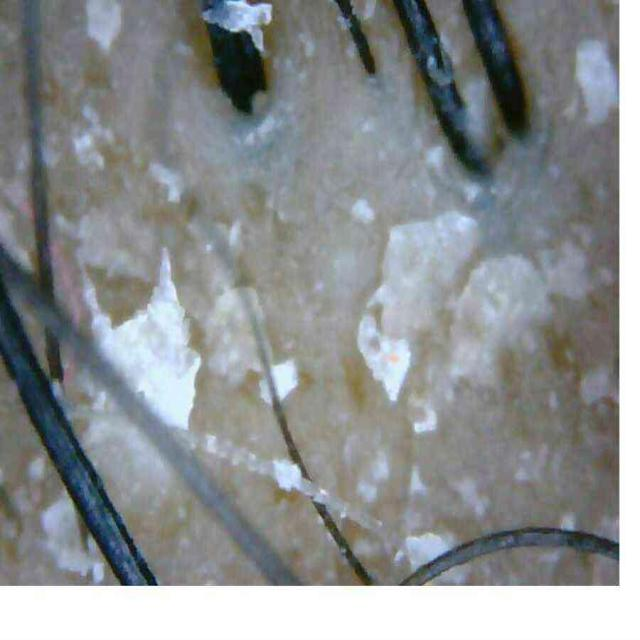d: (358, 211, 478, 402), (92, 249, 201, 428), (450, 254, 550, 386), (202, 0, 272, 55), (41, 495, 88, 575), (576, 40, 618, 125), (552, 242, 589, 300), (87, 0, 121, 49), (405, 533, 450, 570), (580, 367, 612, 405), (151, 163, 182, 202), (272, 360, 298, 401), (410, 400, 438, 434), (273, 459, 300, 491), (351, 199, 375, 224), (259, 379, 271, 405)
